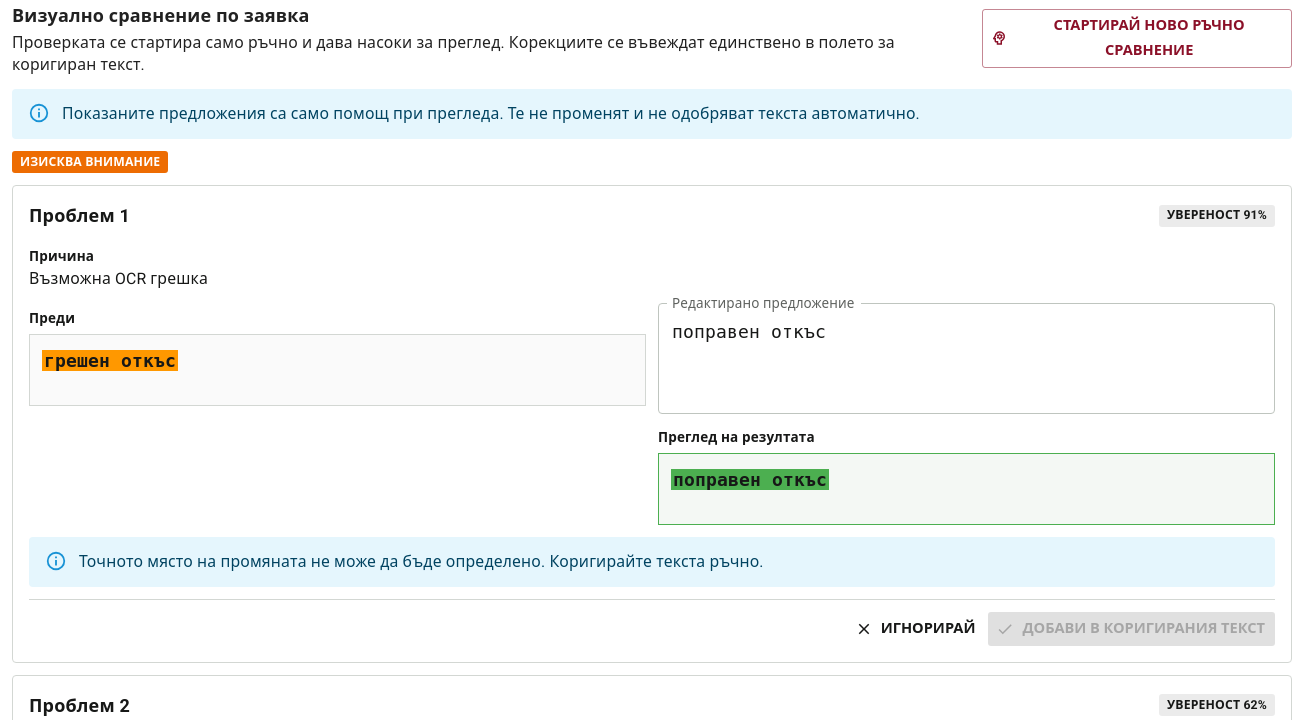
Test case: VisionAssessmentPanel › allows an issue to be ignored without changing the draft
Click the button "Игнорирай" at (916, 629), box [852, 612, 980, 646]
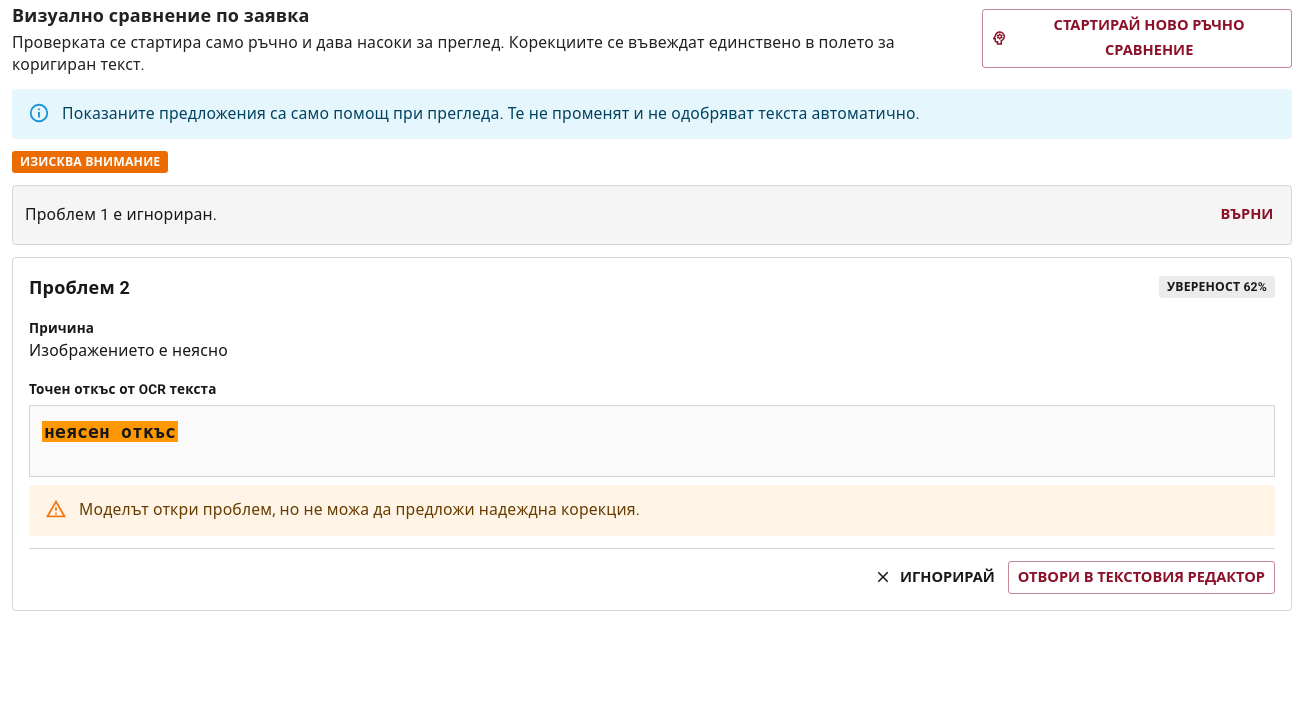
Check: the text "Проблем 1 е игнориран." is shown, box [25, 204, 217, 226]
